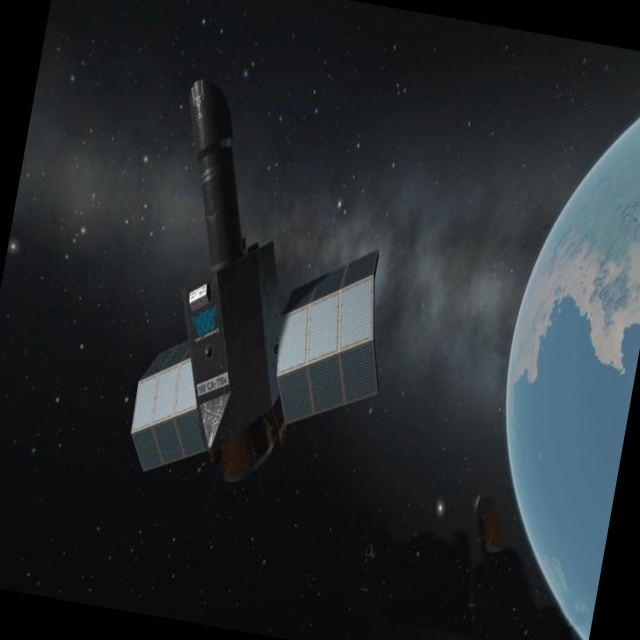medium_debris: (104, 61, 431, 535)
